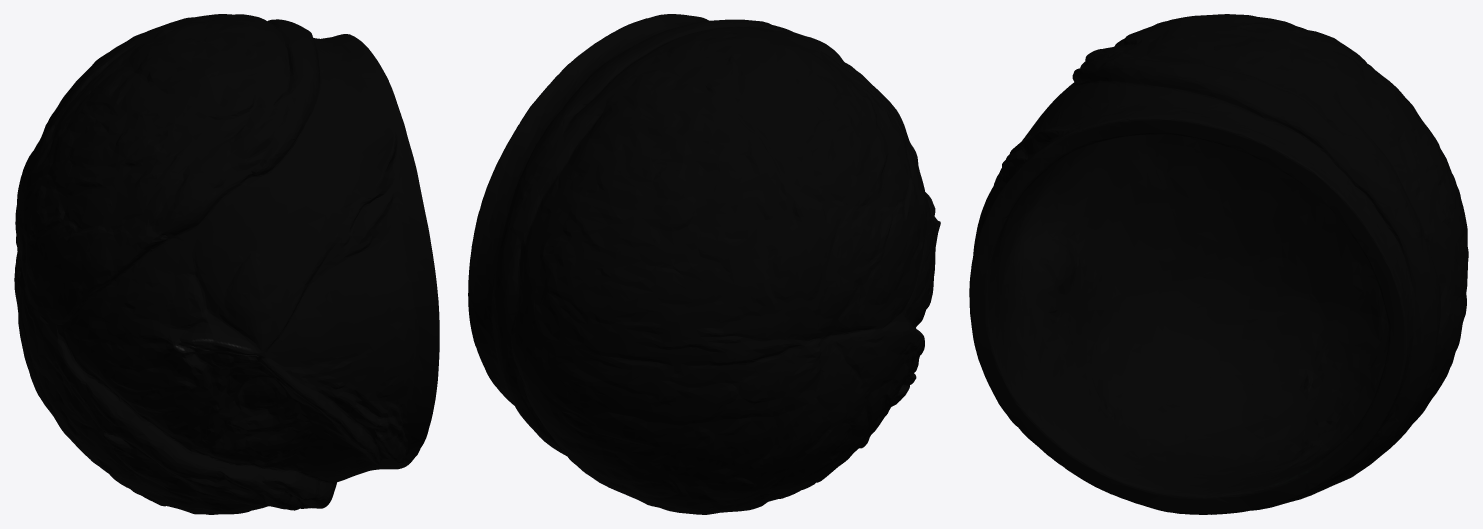
File: black-owl-bowl.glb
3 views of the same model, side by side, from view 1: azimuth 30°, elevation 25°; view 2: azimuth 150°, elevation 25°; view 3: azimuth 270°, elevation 25° (orthographic). The views are drawn at different scales.
Parts seen in each view (by area): view 1: black owl bowl_textured.obj; view 2: black owl bowl_textured.obj; view 3: black owl bowl_textured.obj.
Part boxes in pixels (x1,y1,x2,y2): black owl bowl_textured.obj: (14,14,439,514); black owl bowl_textured.obj: (468,14,940,514); black owl bowl_textured.obj: (969,14,1468,514).
Bounding box in the file's own units: 1.6 × 1.99 × 1.96.
Materials: 1 (1 with a texture image).
